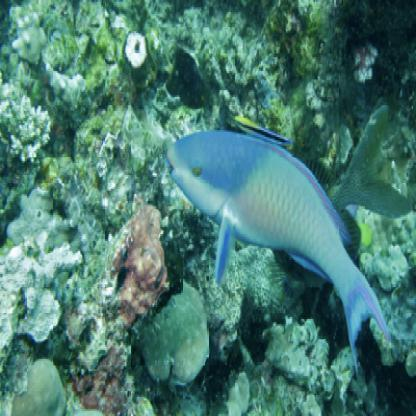Bio: (163, 116, 389, 376), (233, 107, 299, 158)
